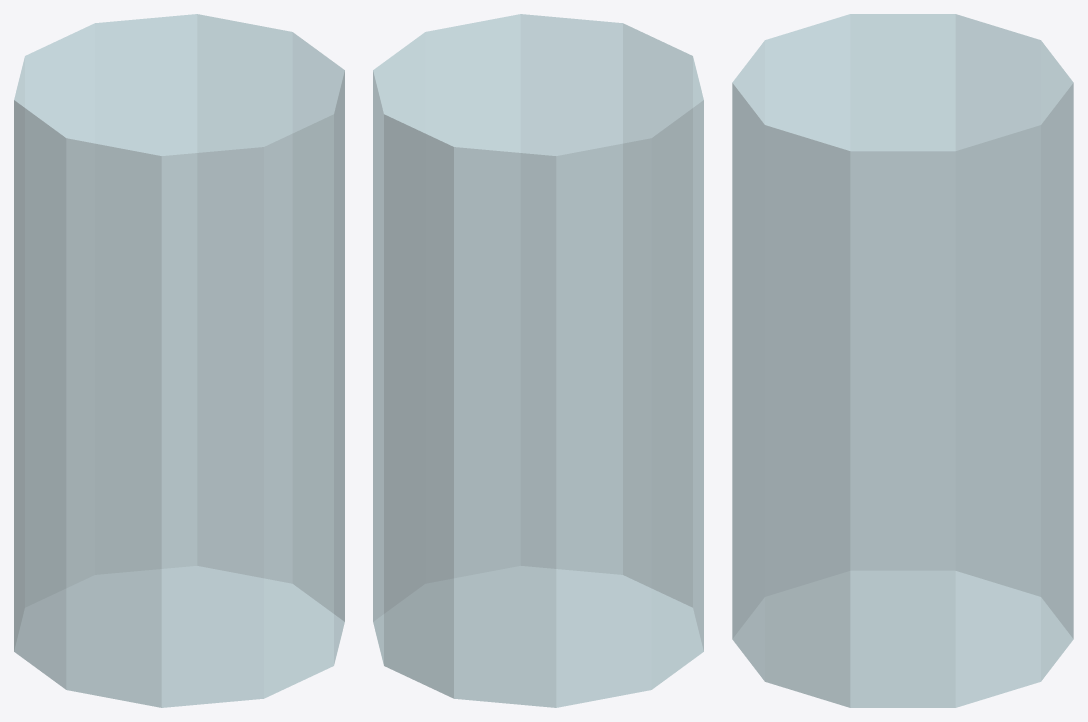
The model's file is prop_lift_vacuum_tube_glass.glb.
The picture shows the model from 3 angles, left to right: view 1: azimuth 30°, elevation 25°; view 2: azimuth 150°, elevation 25°; view 3: azimuth 270°, elevation 25°; orthographic projection.
Visible parts, largest first — view 1: prop_lift_vacuum_tube_glass; view 2: prop_lift_vacuum_tube_glass; view 3: prop_lift_vacuum_tube_glass.
Part boxes in pixels (left/top/right/bottom): prop_lift_vacuum_tube_glass: left=14, top=14, right=344, bottom=707; prop_lift_vacuum_tube_glass: left=373, top=14, right=703, bottom=707; prop_lift_vacuum_tube_glass: left=732, top=14, right=1073, bottom=707.
Bounding box in the file's own units: 0.1902 × 0.36 × 0.2.
1 material, 1 textured.
